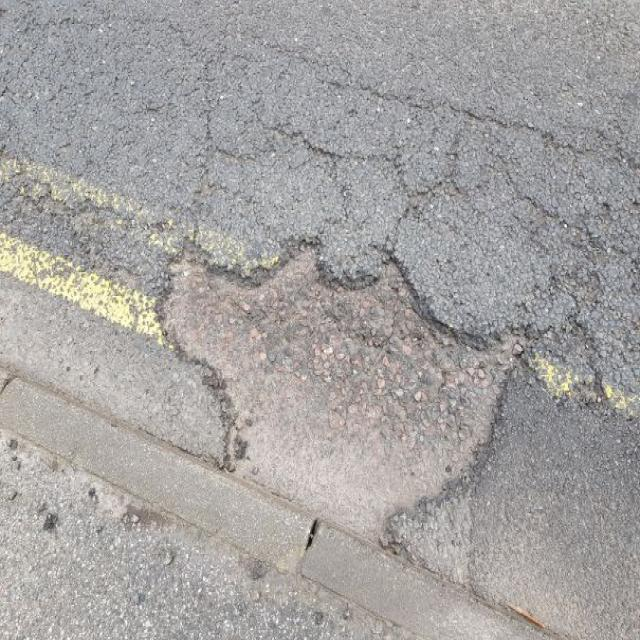Pothole: (155, 221, 538, 550)
